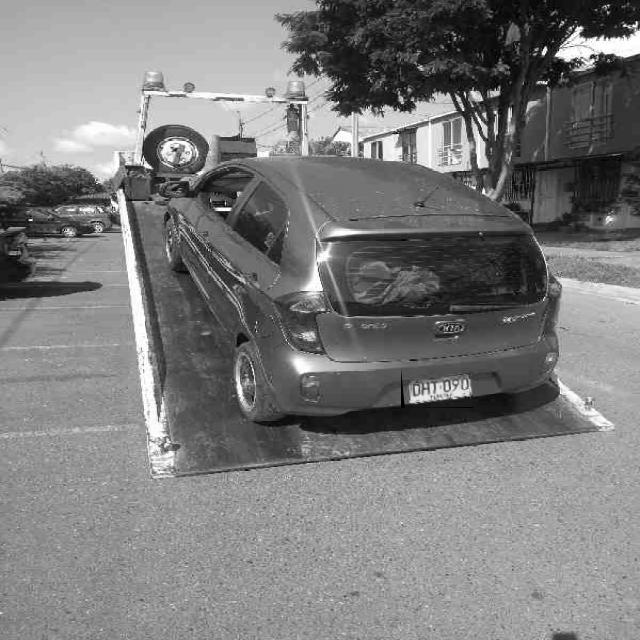plate: (402, 368, 473, 408)
